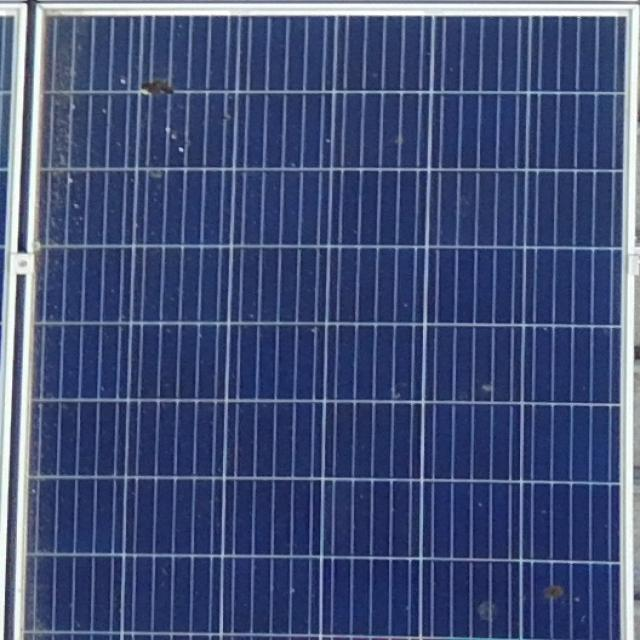Dust: (26, 8, 98, 310), (25, 452, 66, 640)
bird-droppings: (466, 595, 506, 632), (535, 580, 573, 606), (134, 76, 177, 98), (472, 378, 499, 398), (164, 120, 178, 134), (170, 144, 187, 154)
